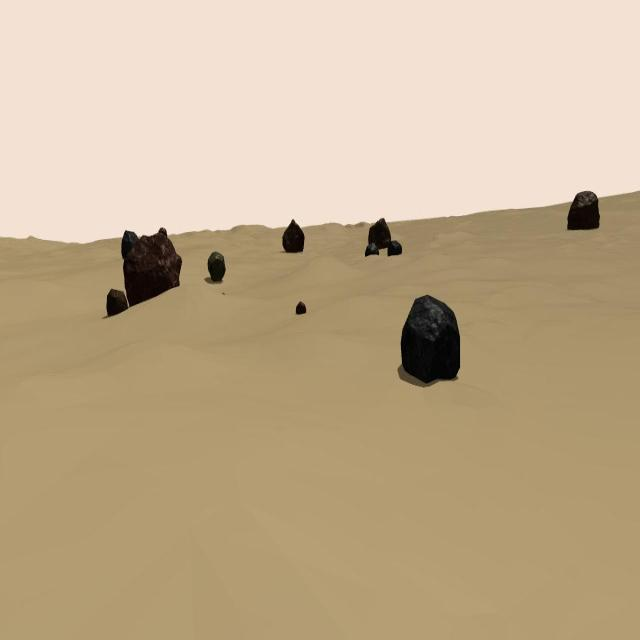rock: (400, 295, 460, 384), (123, 232, 183, 306), (568, 189, 600, 231), (282, 217, 305, 253), (106, 286, 128, 318), (368, 218, 391, 248), (208, 250, 225, 283), (122, 229, 139, 259), (388, 239, 402, 256), (365, 243, 379, 258), (296, 300, 306, 316), (158, 226, 168, 238), (222, 290, 224, 295)
